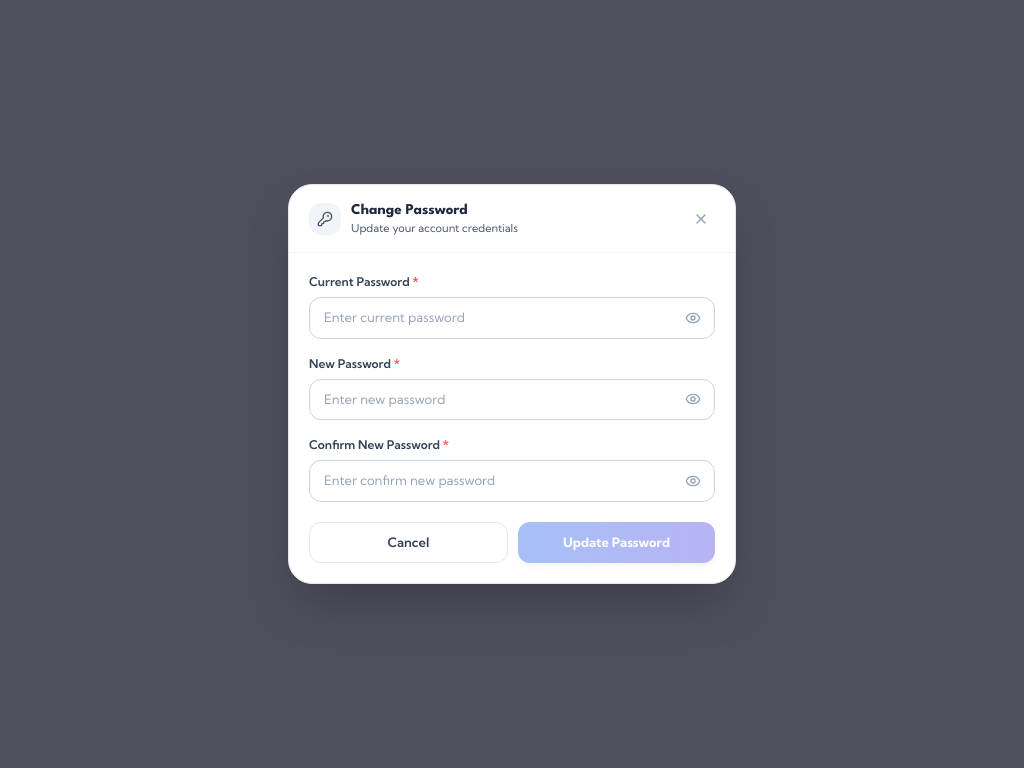
Test case: ChangePasswordModal › submission › shows the API error message when changePassword rejects
Type "OldPass1!" into the password field with placeholder "Enter current password" at (512, 318), box x1=309 y1=297 x2=715 y2=339
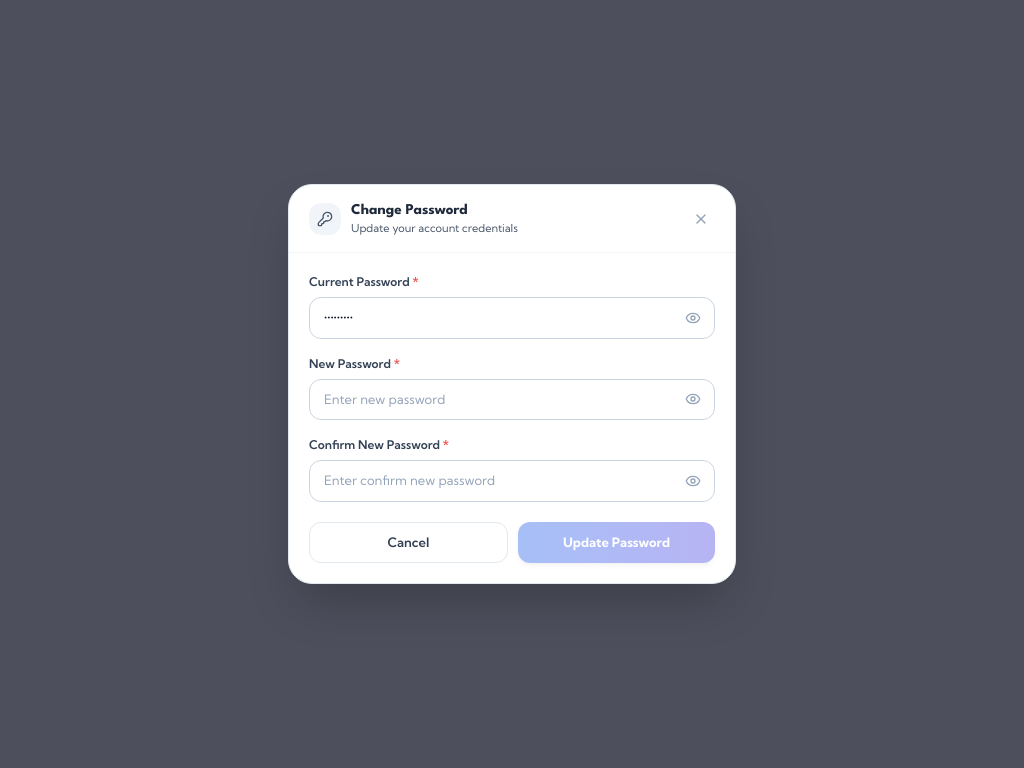
Type "NewPass1!" into the password field with placeholder "Enter new password" at (512, 399), box x1=309 y1=379 x2=715 y2=420
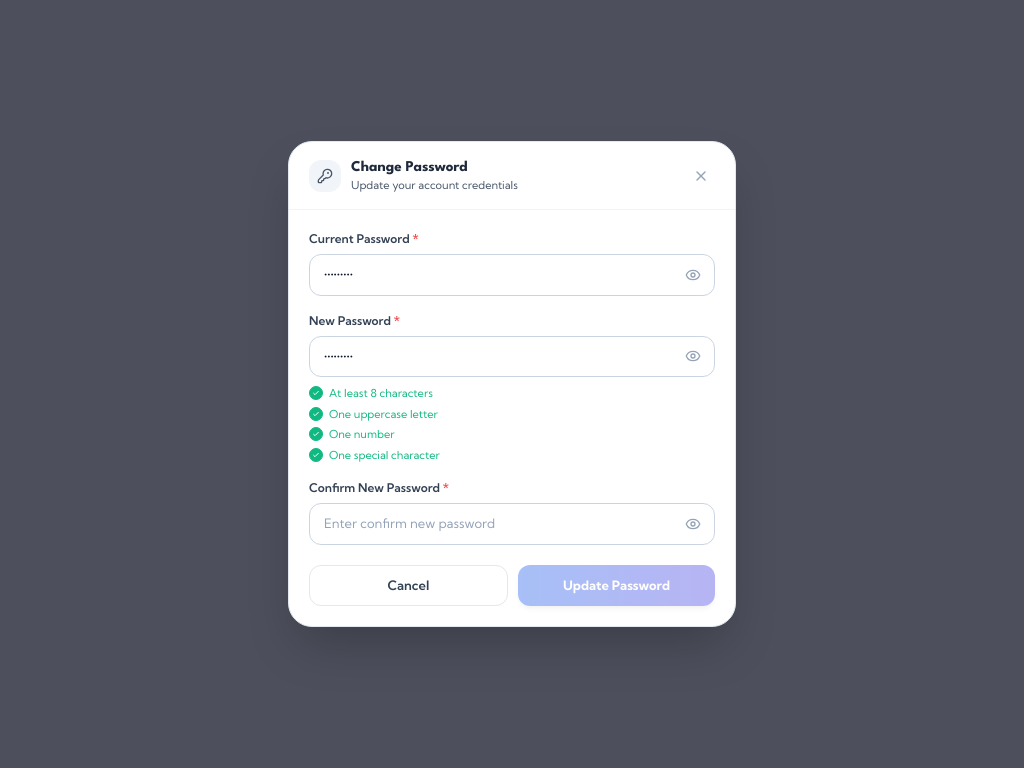
Type "NewPass1!" into the password field with placeholder "Enter confirm new password" at (512, 524), box x1=309 y1=503 x2=715 y2=545
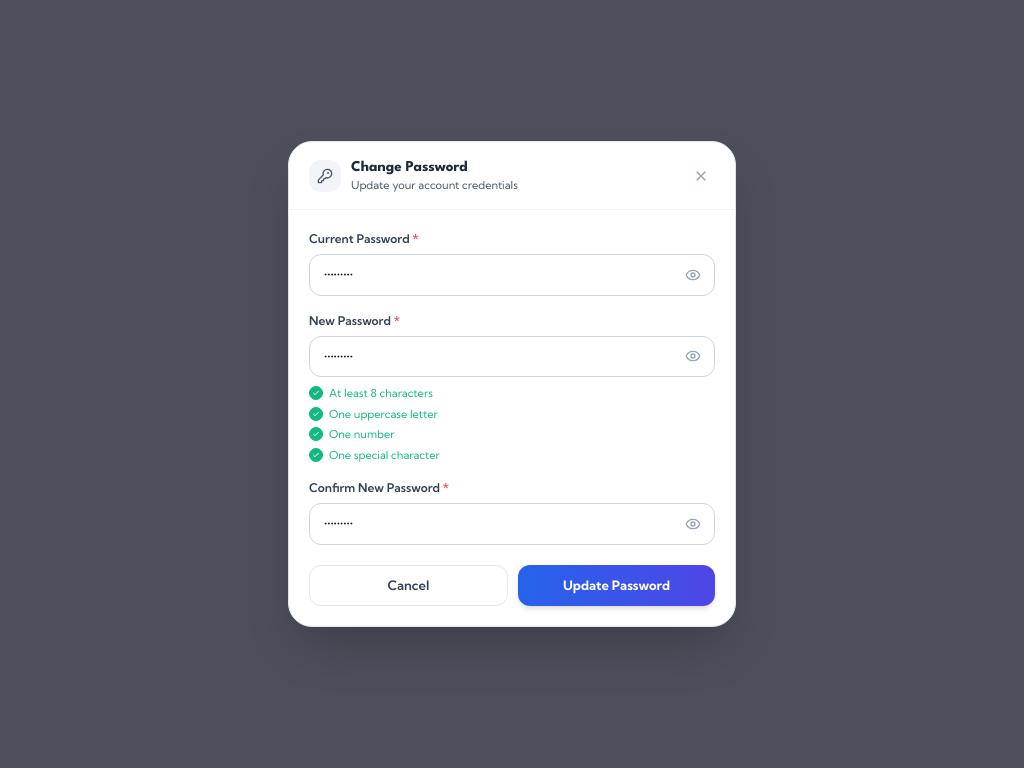
Click the button "Update Password" at (616, 585), box x1=518 y1=565 x2=715 y2=606
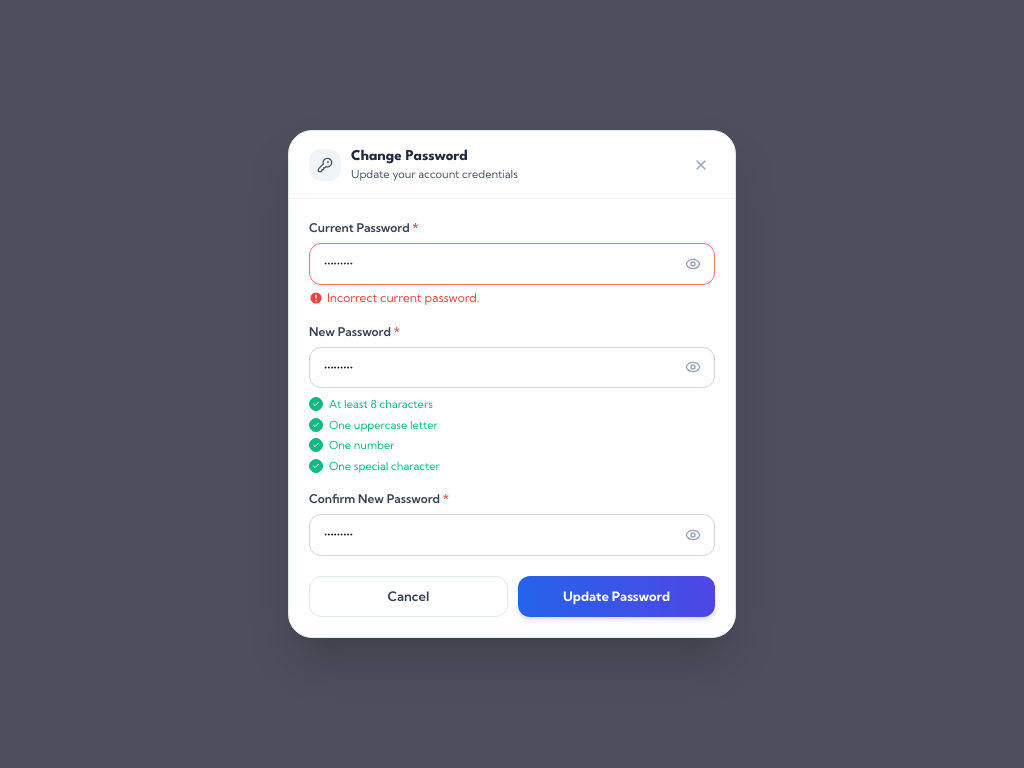
Result: the text "Incorrect current password." is shown at x1=309 y1=290 x2=480 y2=305
